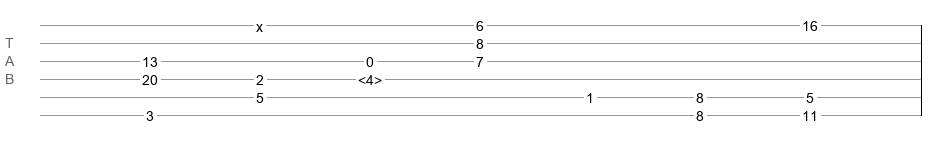0: (366, 54, 374, 64)
1: (586, 90, 594, 100)
11: (802, 108, 818, 118)
13: (142, 54, 158, 64)
16: (802, 18, 818, 28)
2: (256, 72, 264, 82)
20: (142, 72, 158, 82)
3: (146, 108, 154, 118)
5: (256, 90, 264, 100), (806, 90, 814, 100)
6: (476, 18, 484, 28)
7: (476, 54, 484, 64)
8: (476, 36, 484, 46), (696, 108, 704, 118), (696, 90, 704, 100)
harmonic: (358, 72, 382, 82)
x: (256, 19, 263, 27)
